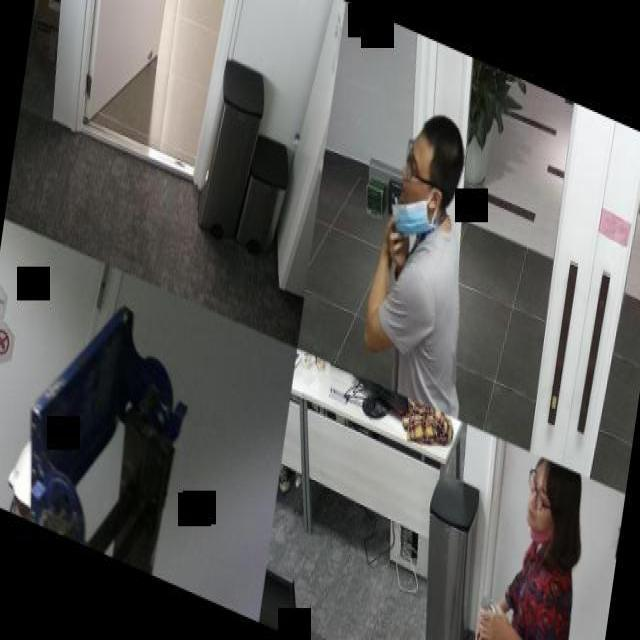hairnet: (393, 135, 432, 231), (525, 462, 558, 544)
